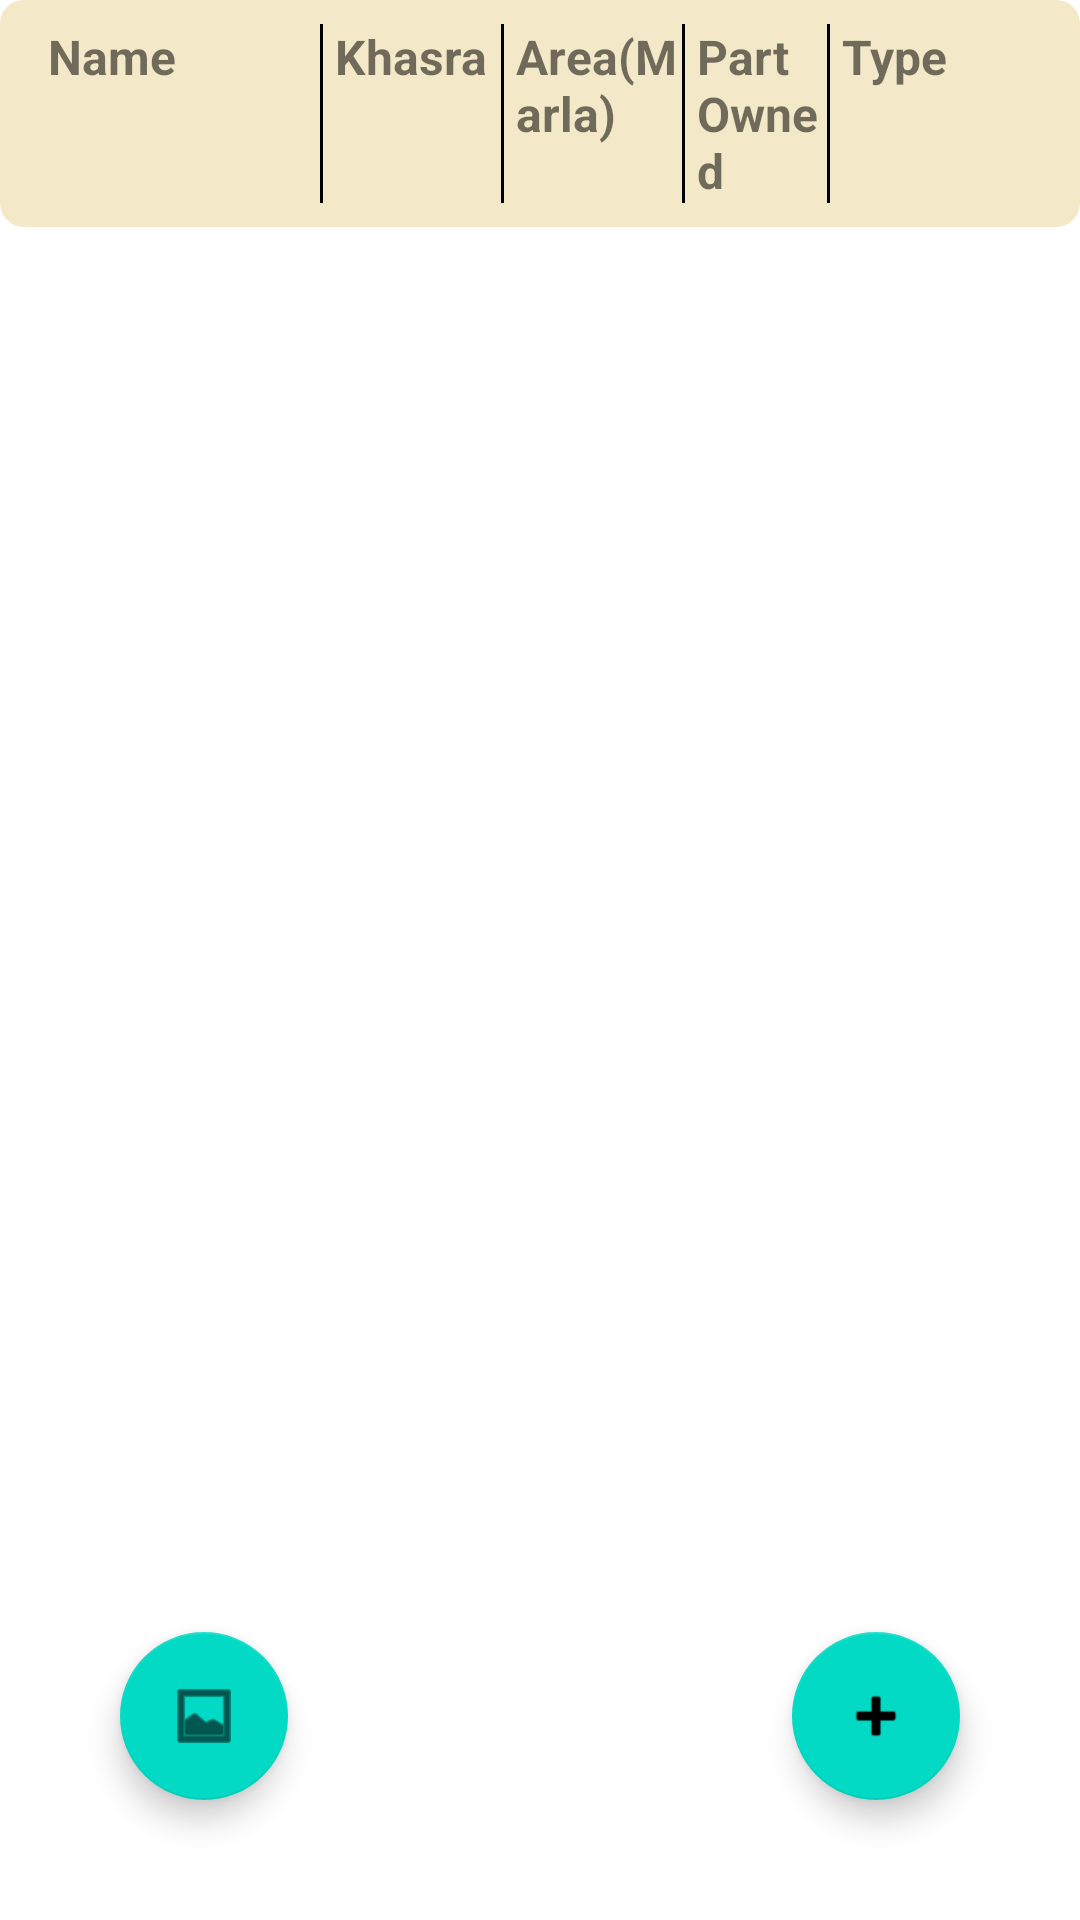

Icon bounding boxes for this 1080×1920 phone screenshot, format box(x1, y1, x2, y2):
add: box(792, 1632, 960, 1800)
gallery: box(120, 1632, 288, 1800)
